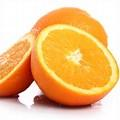orange: (27, 22, 120, 105), (0, 27, 48, 93), (30, 5, 102, 43)
